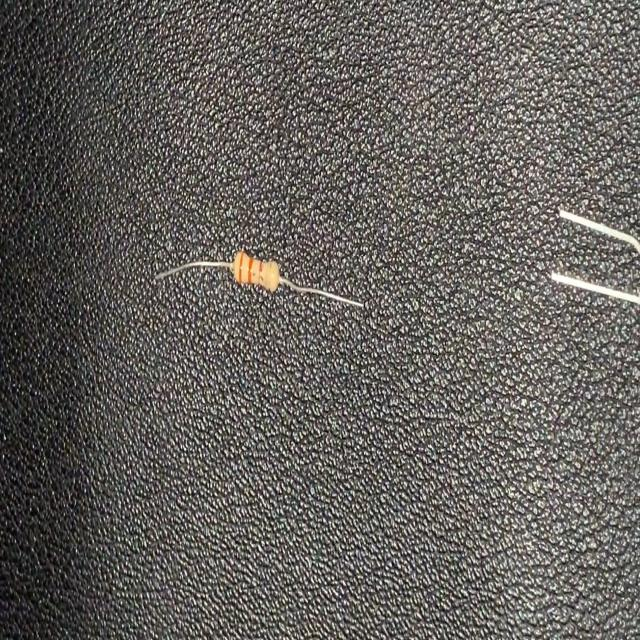faded: (256, 258, 276, 295)
resistor: (152, 243, 369, 314)
